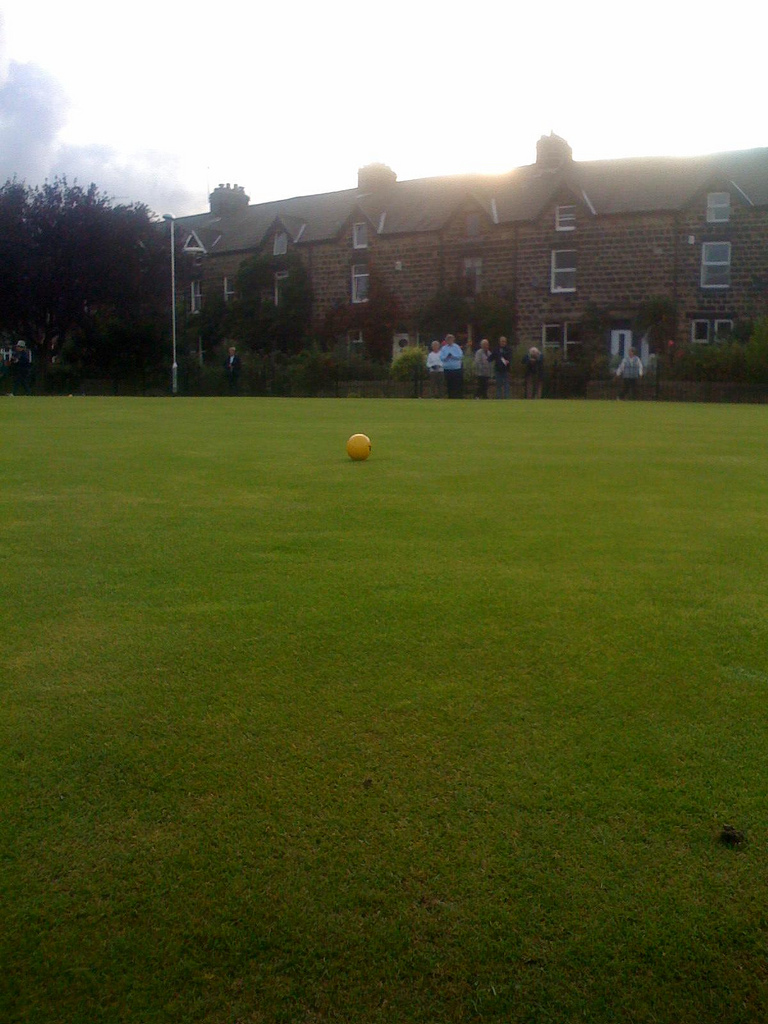chopped lettuce: (457, 427, 659, 564)
